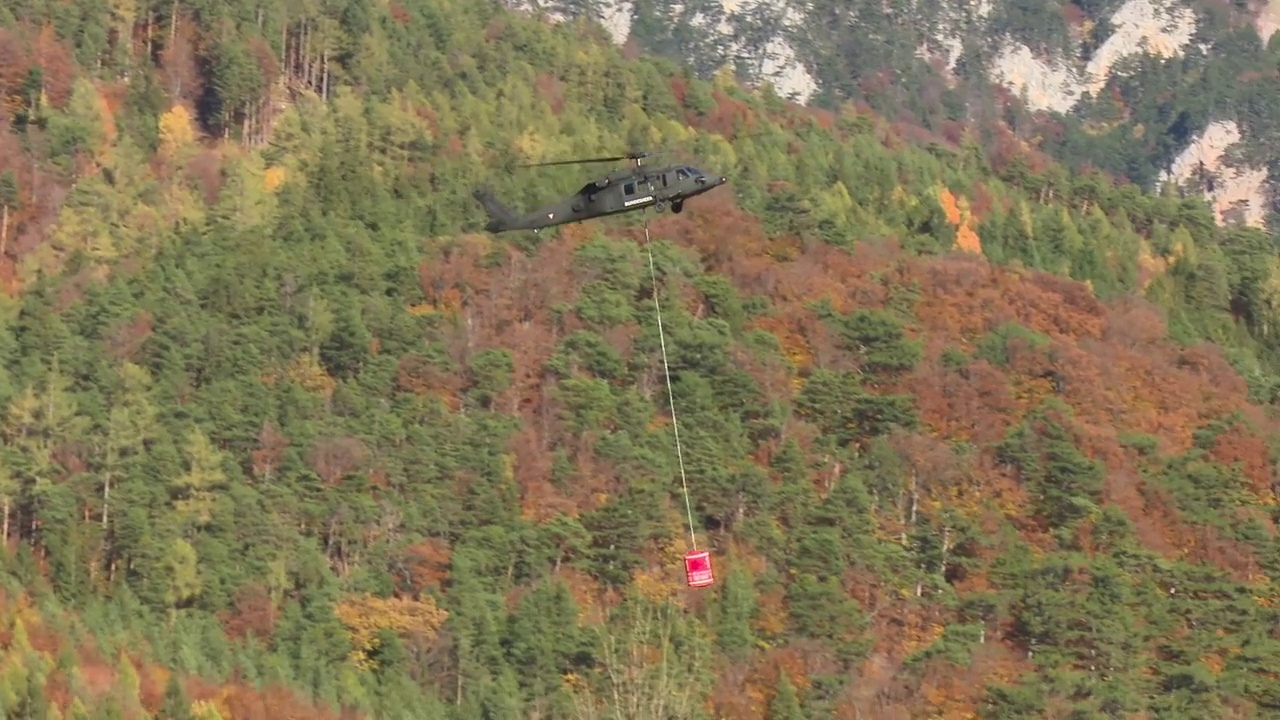heli: (472, 150, 728, 234)
